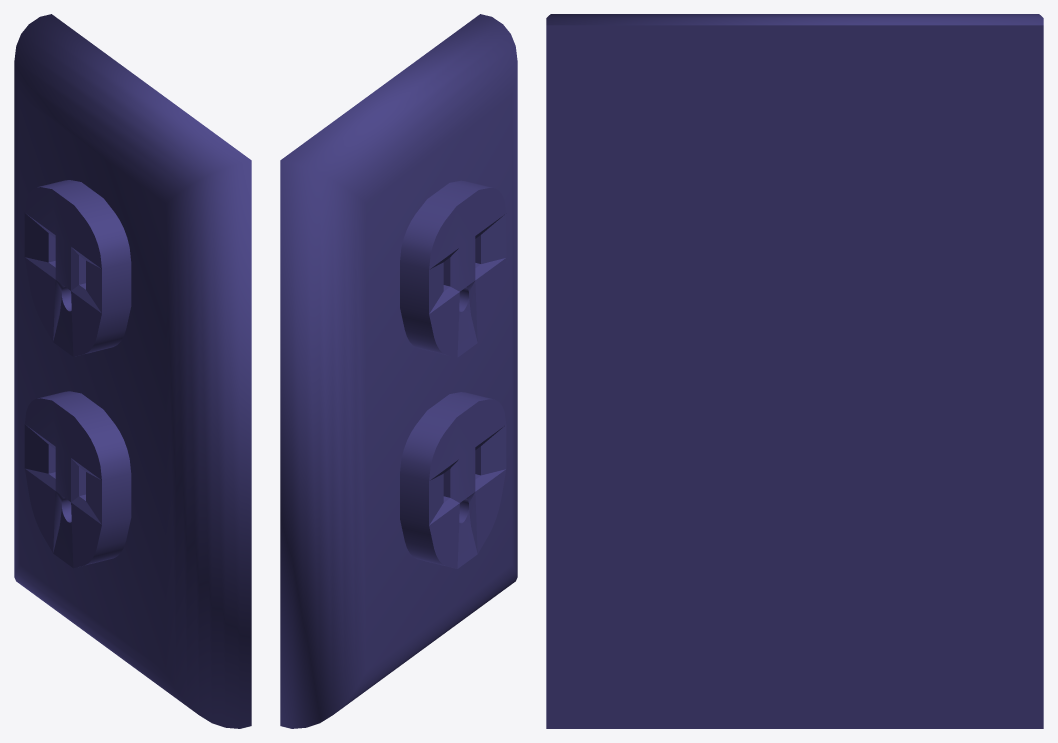
The model's file is Outlet.fbx.
The picture shows the model from 3 angles, left to right: view 1: azimuth 30°, elevation 25°; view 2: azimuth 150°, elevation 25°; view 3: azimuth 270°, elevation 25°; orthographic projection. The views are drawn at different scales.
Parts seen in each view (by area): view 1: Box073; view 2: Box073; view 3: Box073.
Boxes of the visible parts, left/top/right/bottom form: Box073: left=14, top=14, right=251, bottom=728; Box073: left=280, top=14, right=517, bottom=728; Box073: left=546, top=14, right=1043, bottom=728.
Size of the model in its own units: 1.25 by 7.68 by 4.92.
